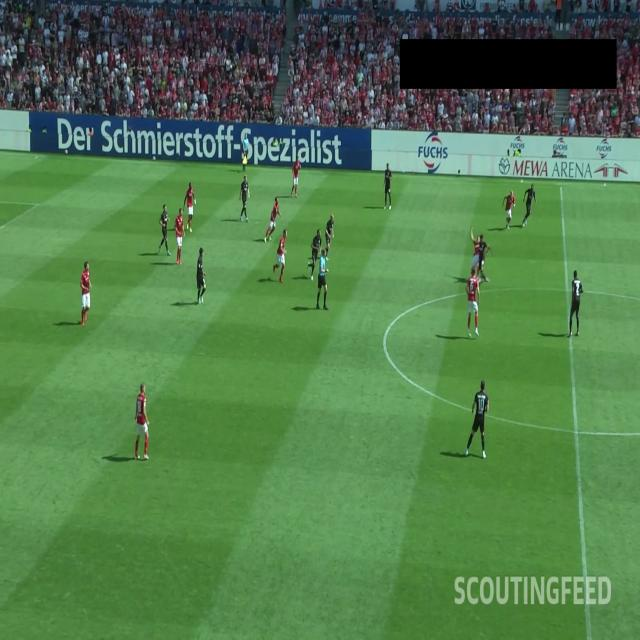ball: (477, 275, 481, 284)
player: (465, 380, 489, 459), (134, 382, 150, 461), (567, 270, 584, 338), (466, 267, 480, 338), (264, 197, 282, 243), (80, 262, 92, 326), (273, 229, 287, 283), (476, 233, 491, 283), (308, 228, 322, 280), (174, 207, 186, 265), (183, 181, 196, 233), (470, 226, 482, 280), (522, 182, 536, 228), (196, 247, 207, 305), (159, 204, 171, 255), (502, 188, 516, 229), (239, 174, 250, 222), (383, 162, 393, 210), (325, 213, 335, 257), (291, 157, 301, 198)
referee: (316, 247, 329, 311), (242, 134, 250, 172)
